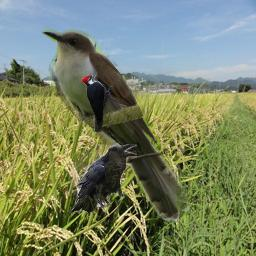Crow: (67, 144, 137, 217)
Cuckoo: (40, 26, 191, 223)
Woodpecker: (80, 72, 113, 132)
